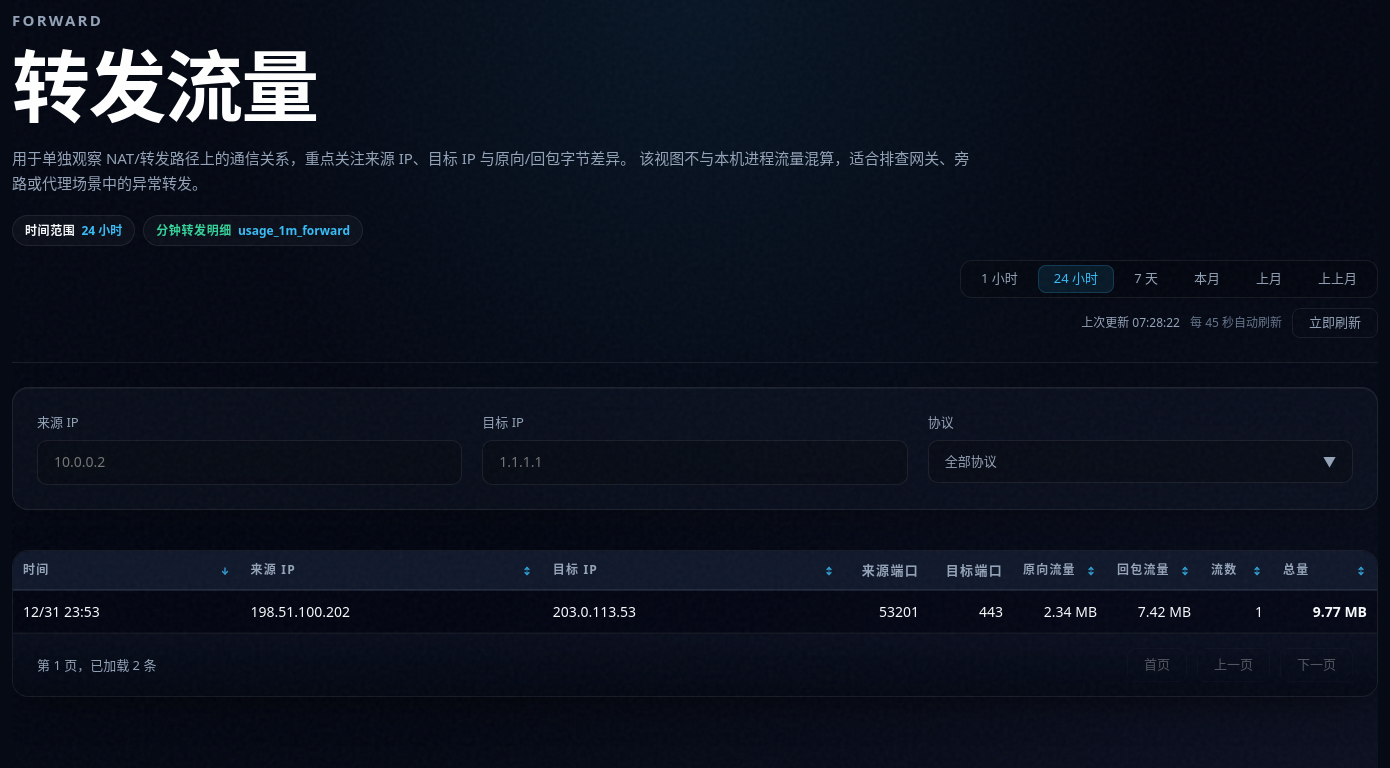
Test: traffic-go web ui › does not present previous forward rows under new filters
The image size is (1390, 768).
Expected: the text "198.51.100.202" is shown, x1=241 y1=591 x2=543 y2=633
Step 1. Click the tab "7 天" → click(1146, 279), box x1=1118 y1=266 x2=1174 y2=293
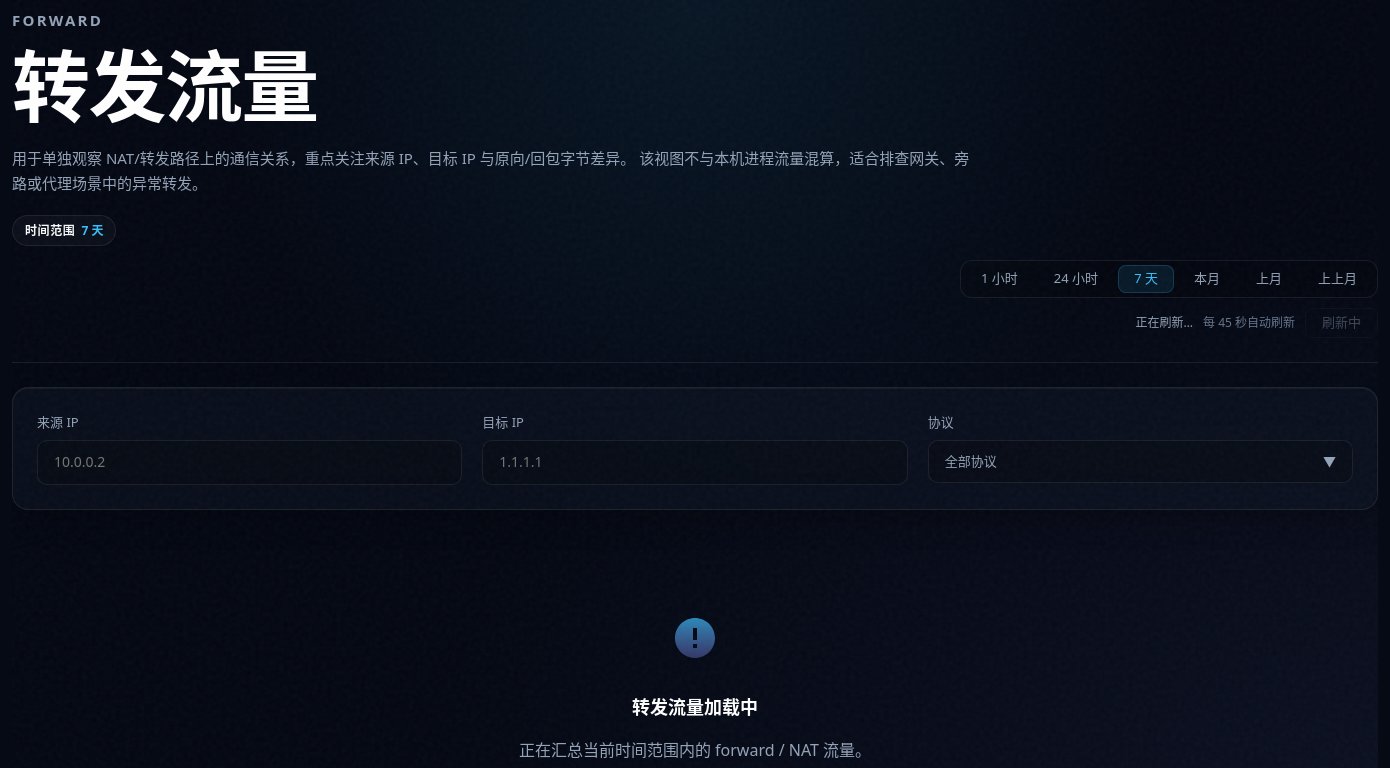
Expected: the heading "转发流量加载中" is shown, x1=632 y1=693 x2=758 y2=722
Expected: the text "198.51.100.202" is gone
